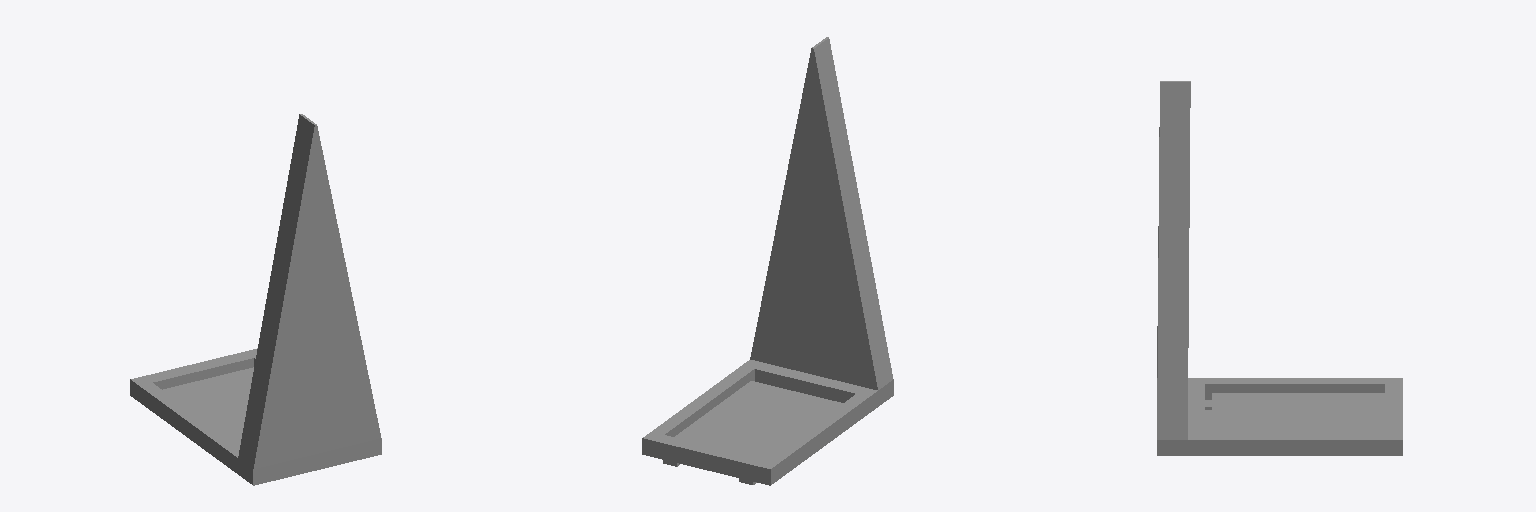
The model's file is podstavka.obj.
The picture shows the model from 3 angles: view 1: azimuth 30°, elevation 25°; view 2: azimuth 150°, elevation 25°; view 3: azimuth 270°, elevation 25°; orthographic projection.
Parts seen in each view (by area): view 1: kvaka2_Cube.000, Плоскость.001; view 2: kvaka2_Cube.000, Плоскость.001; view 3: kvaka2_Cube.000, Плоскость.001.
Boxes of the visible parts, box(x1,y1,x2,y2) form: kvaka2_Cube.000: box(130, 114, 381, 485); Плоскость.001: box(163, 367, 253, 445); kvaka2_Cube.000: box(642, 37, 893, 485); Плоскость.001: box(675, 381, 842, 459); kvaka2_Cube.000: box(1157, 81, 1402, 455); Плоскость.001: box(1212, 393, 1384, 433).
Size of the model in its own units: 2.39 by 6.23 by 3.98.